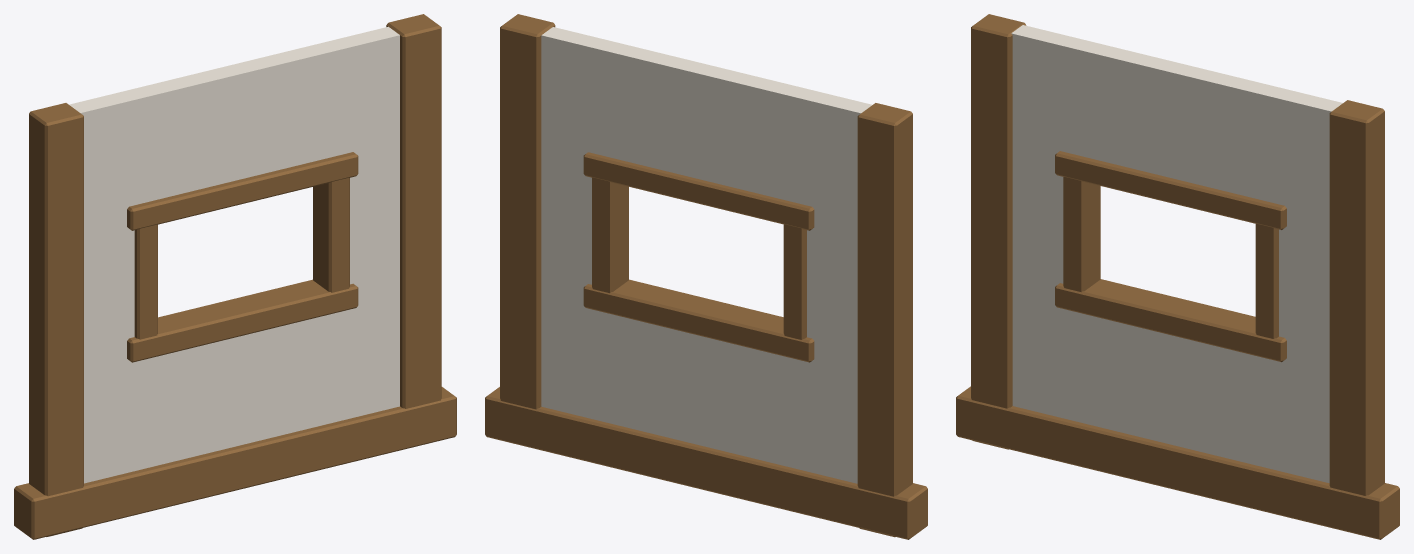
Rendered from WallWindow.fbx.
3 renders of one model, left to right at view 1: azimuth 30°, elevation 25°; view 2: azimuth 150°, elevation 25°; view 3: azimuth 330°, elevation 25°, orthographic.
Parts seen in each view (by area): view 1: Cube.131, Cube.139, Cube.140, Cube.138, Cube.143, Cube.144, Cube.137, Cube.142; view 2: Cube.131, Cube.139, Cube.140, Cube.138, Cube.143, Cube.144, Cube.137, Cube.142; view 3: Cube.131, Cube.138, Cube.140, Cube.139, Cube.143, Cube.144, Cube.142, Cube.137.
Part boxes in pixels (<box>): Cube.131: <box>69,26,399,483</box>; Cube.139: <box>29,103,83,536</box>; Cube.140: <box>14,387,456,539</box>; Cube.138: <box>386,14,441,408</box>; Cube.143: <box>127,279,358,362</box>; Cube.144: <box>127,152,358,230</box>; Cube.137: <box>313,178,349,292</box>; Cube.142: <box>134,224,157,339</box>; Cube.131: <box>541,27,872,483</box>; Cube.139: <box>857,103,912,537</box>; Cube.140: <box>485,387,927,539</box>; Cube.138: <box>500,14,555,409</box>; Cube.143: <box>583,279,814,362</box>; Cube.144: <box>583,152,814,230</box>; Cube.137: <box>592,177,628,293</box>; Cube.142: <box>783,224,806,339</box>; Cube.131: <box>1011,25,1342,483</box>; Cube.138: <box>1329,100,1384,495</box>; Cube.140: <box>956,386,1399,539</box>; Cube.139: <box>971,14,1026,449</box>; Cube.143: <box>1055,279,1286,362</box>; Cube.144: <box>1055,151,1286,229</box>; Cube.142: <box>1063,177,1100,292</box>; Cube.137: <box>1255,223,1278,338</box>.
Bounding box in the file's own units: 216 × 202 × 17.27.
